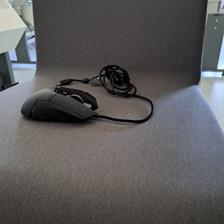mouse: (20, 86, 98, 124)
